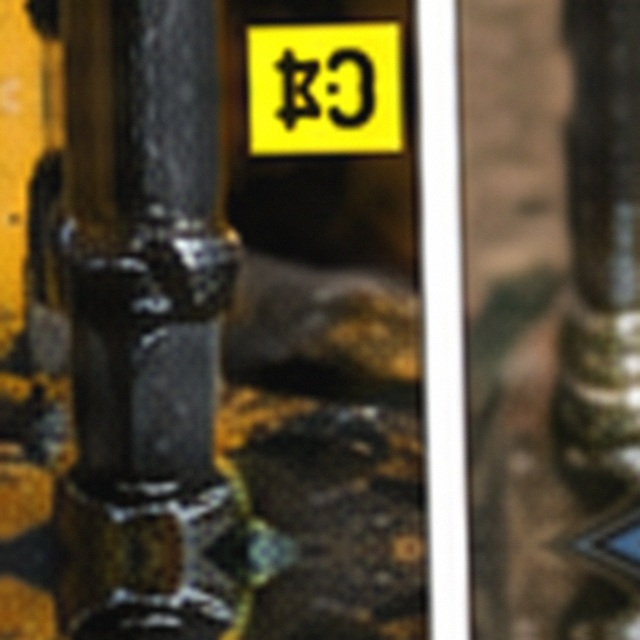hydraulic_oil_leak: (184, 212, 435, 458)
